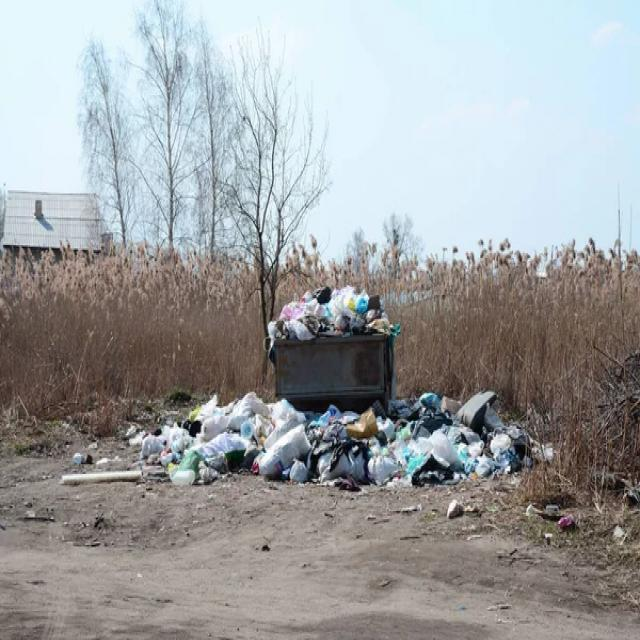high trash: (126, 391, 541, 485), (269, 286, 395, 341)
less trash: (526, 505, 578, 531), (61, 470, 142, 485), (446, 500, 465, 519), (72, 452, 92, 465)
